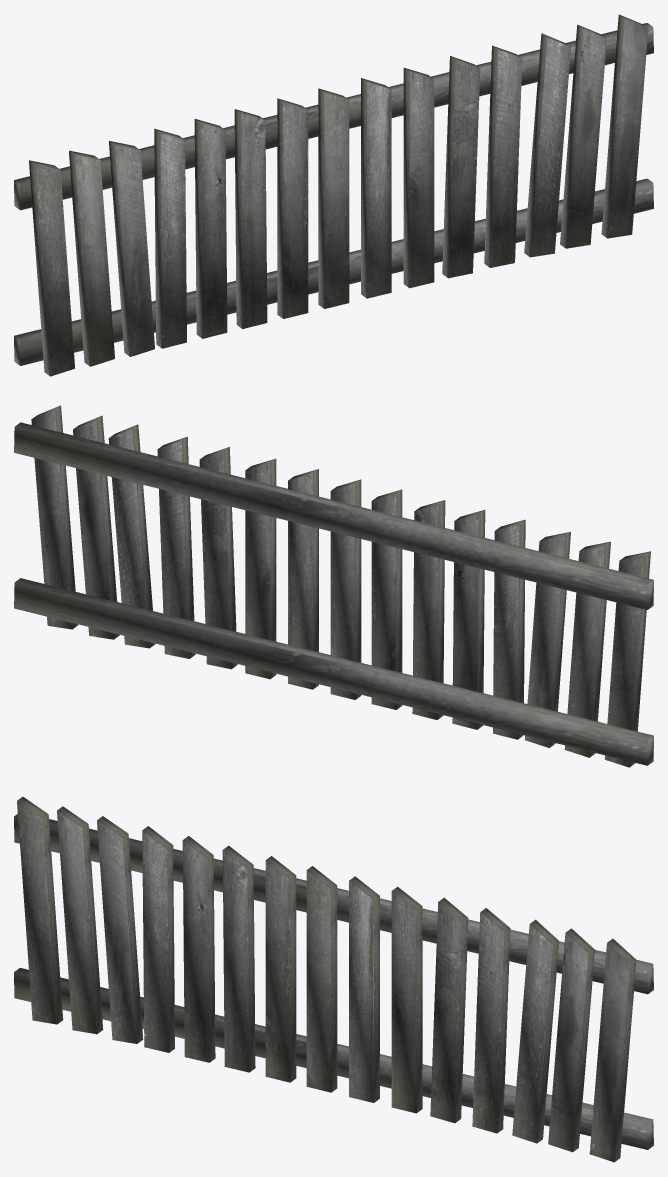
File: fence1.fbx
3 views of the same model, one above another, from view 1: azimuth 30°, elevation 25°; view 2: azimuth 150°, elevation 25°; view 3: azimuth 330°, elevation 25° (orthographic).
Parts seen in each view (by area): view 1: U3DMesh; view 2: U3DMesh; view 3: U3DMesh.
Boxes of the visible parts, x1,y1,x2,y2 form: U3DMesh: [14, 14, 653, 376]; U3DMesh: [14, 405, 653, 767]; U3DMesh: [14, 796, 653, 1162].
Size of the model in its own units: 5.98 by 1.96 by 0.1961.
1 material, 1 textured.
